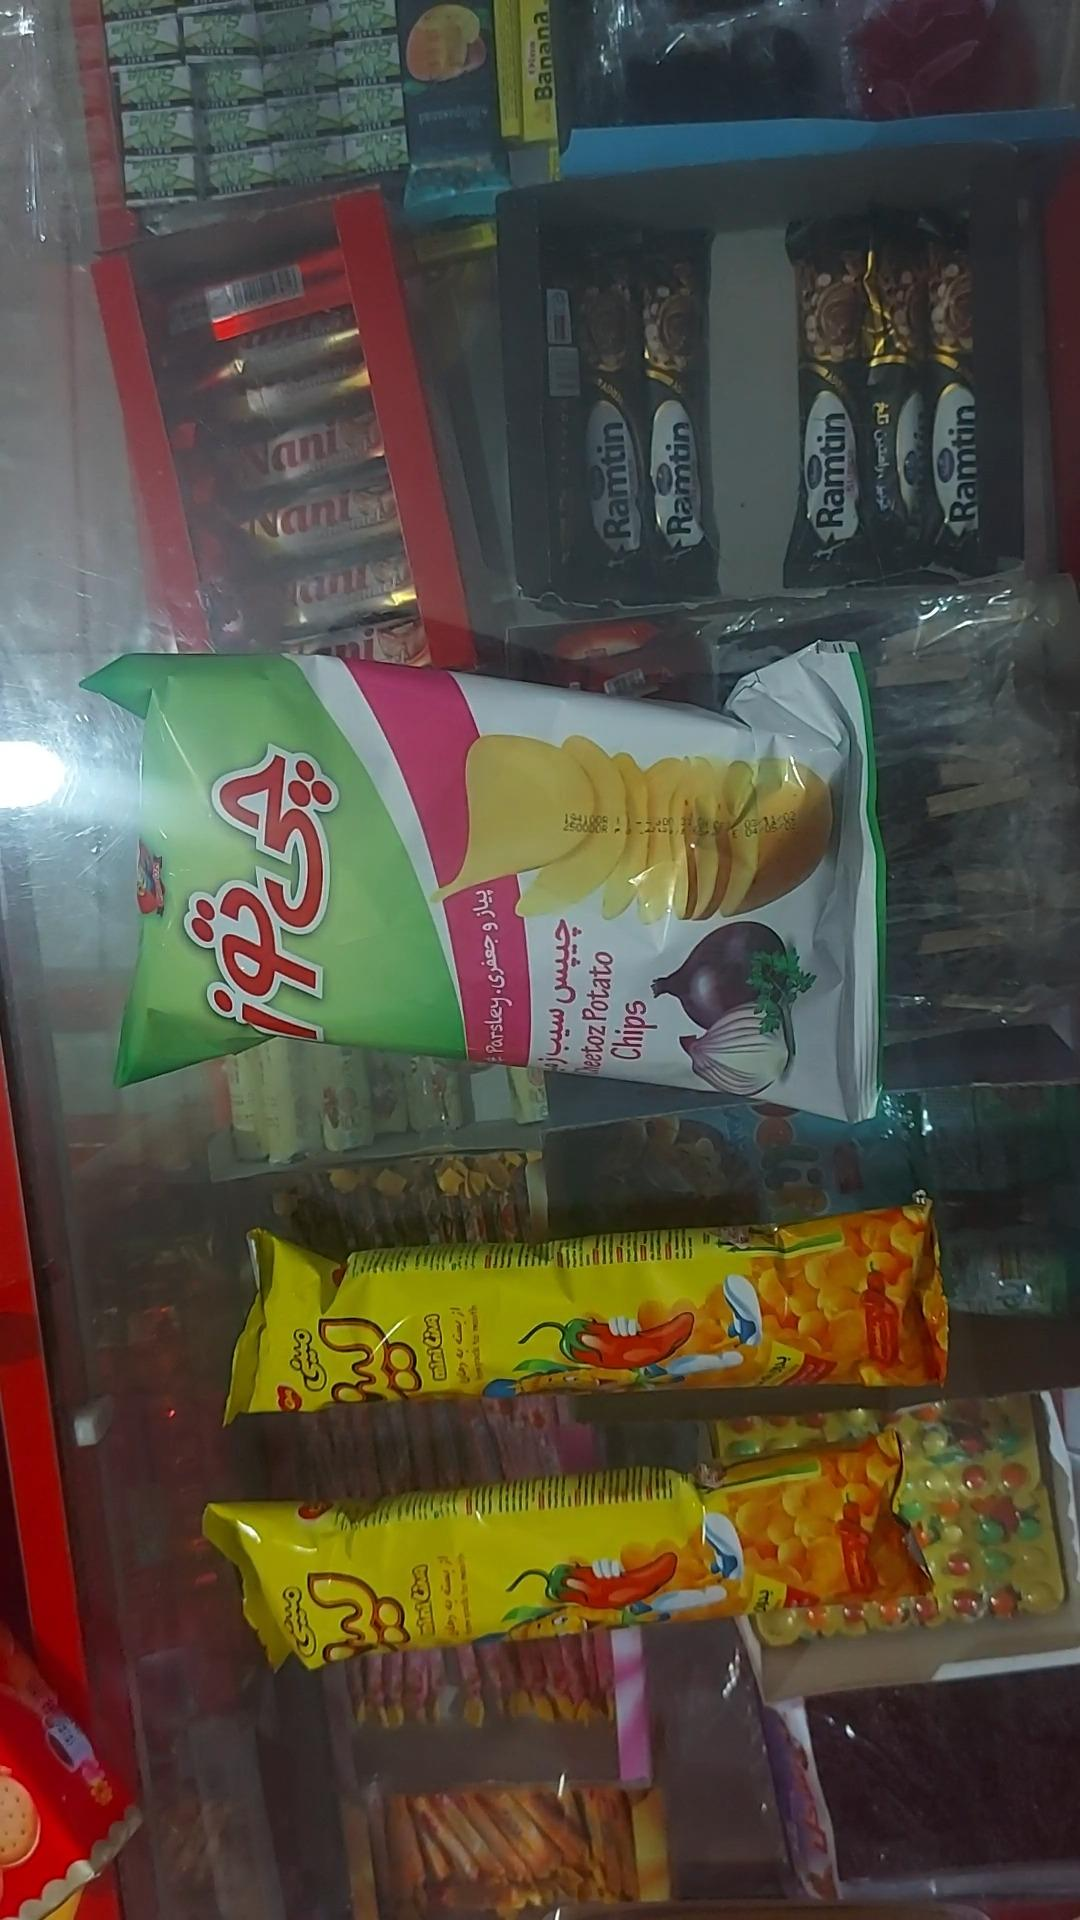Cheetoz onion and parsley chips: (79, 644, 882, 1124)
Mini Lina: (202, 1433, 934, 1672), (223, 1200, 949, 1423)
